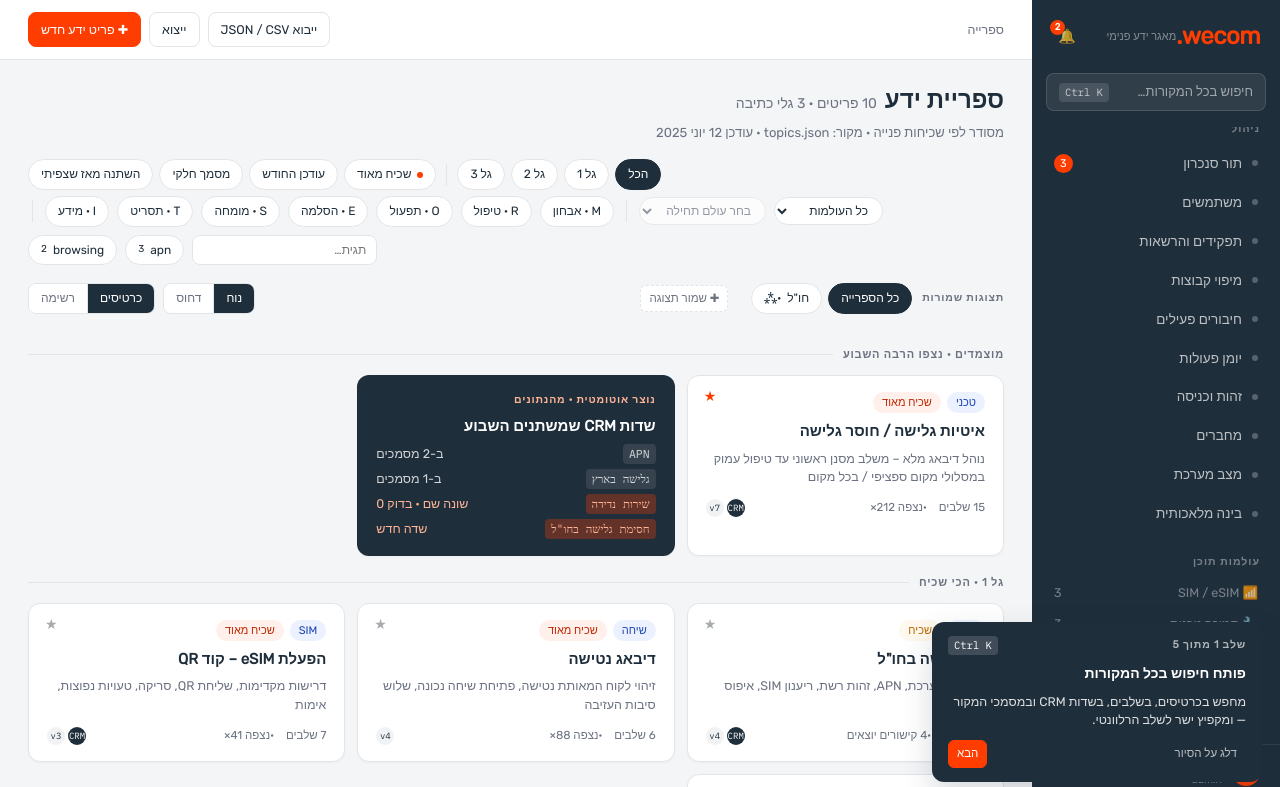
Scenario: shell · the ניהול section › navigates from the sidebar into the admin area
(page scrolled)
Step 1. Click the button "מחברים" → (1227, 435), box [1196,427,1258,443]
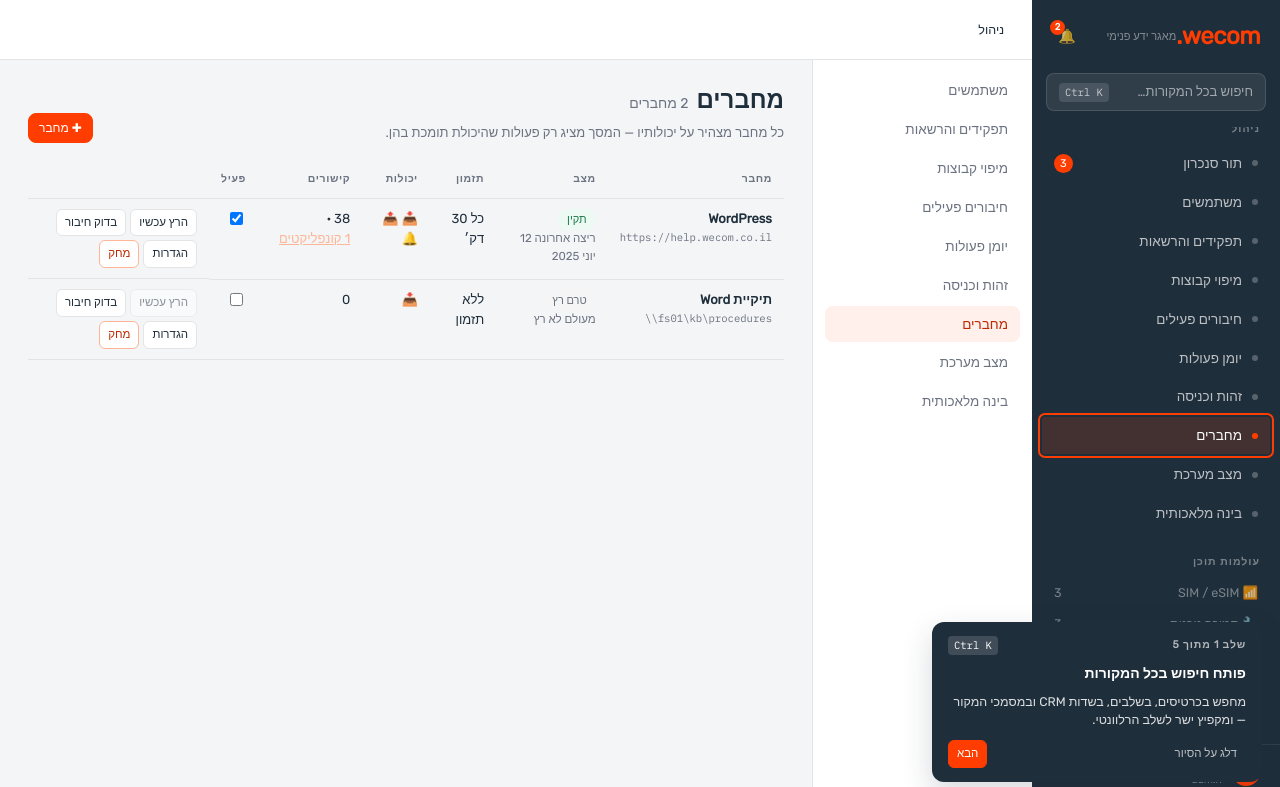
Now the heading "מחברים2 מחברים" is shown, box [629,86,784,114]
